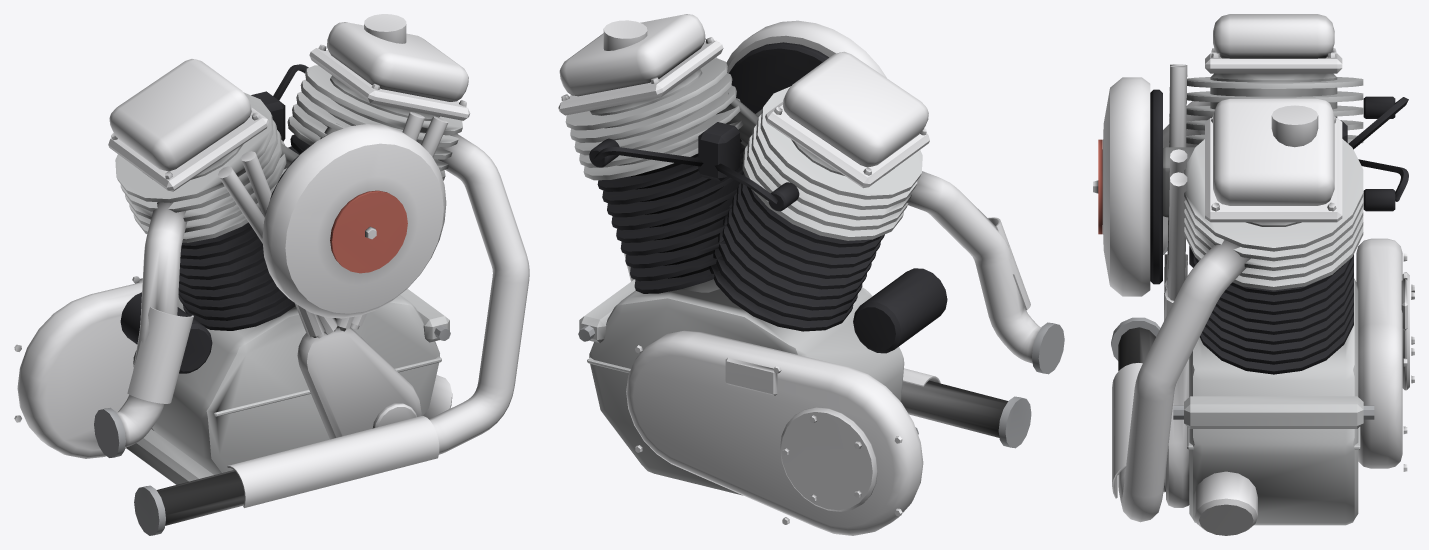
The model's file is eng_vtwin.glb.
3 views of the same model, side by side, from view 1: azimuth 30°, elevation 25°; view 2: azimuth 150°, elevation 25°; view 3: azimuth 270°, elevation 25° (orthographic). The views are drawn at different scales.
Visible parts, largest first — view 1: PART; view 2: PART; view 3: PART.
Part boxes in pixels (box(x1,y1,x2,y2)): PART: box(14, 14, 529, 535); PART: box(558, 14, 1064, 535); PART: box(1093, 14, 1414, 535).
Size of the model in its own units: 0.5042 by 0.4634 by 0.3045.
